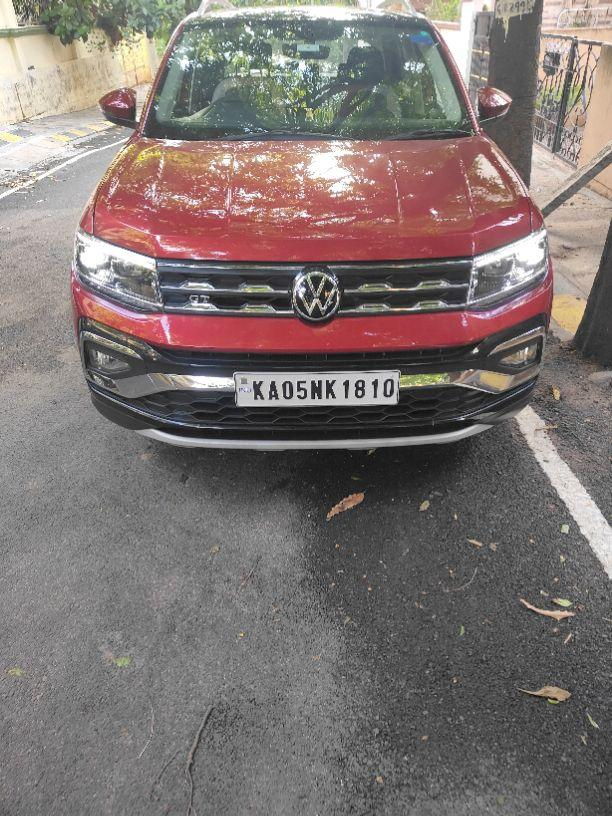license_plate: (232, 368, 400, 407)
